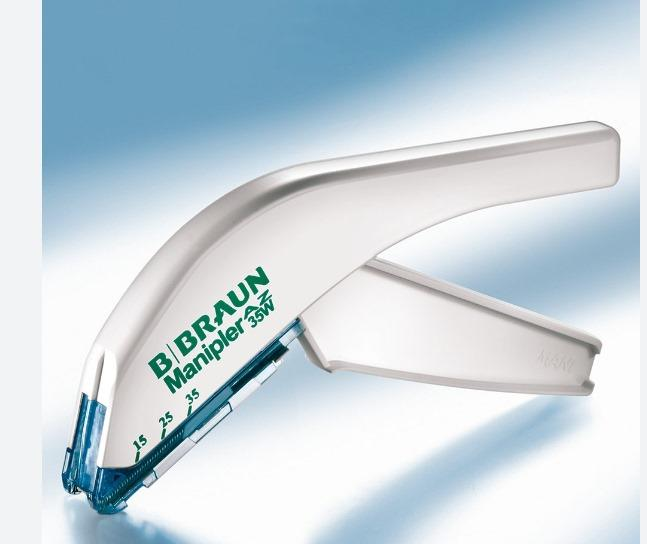Skin Stapler: (57, 99, 626, 522)
